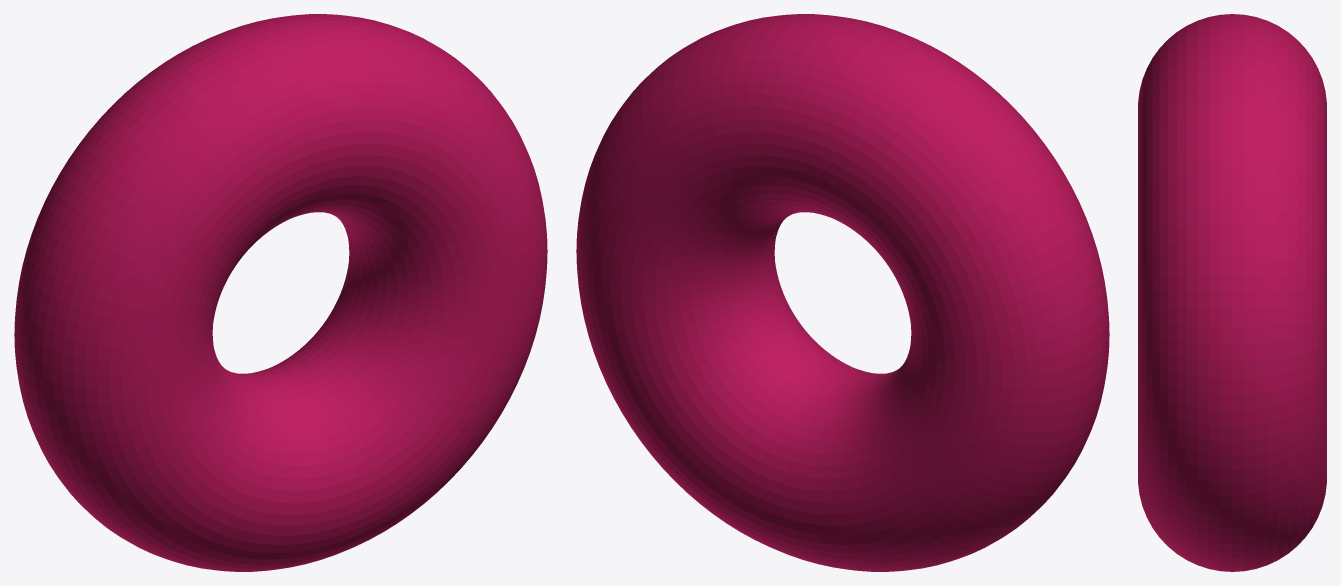
3 renders of one model, left to right at view 1: azimuth 30°, elevation 25°; view 2: azimuth 150°, elevation 25°; view 3: azimuth 270°, elevation 25°, orthographic. The views are drawn at different scales.
Parts seen in each view (by area): view 1: world; view 2: world; view 3: world.
Part boxes in pixels (x1=…): world: x1=14, y1=14, x2=547, y2=571; world: x1=576, y1=14, x2=1109, y2=571; world: x1=1138, y1=14, x2=1326, y2=571.
Size of the model in its own units: 23.2 by 23.2 by 7.85.
